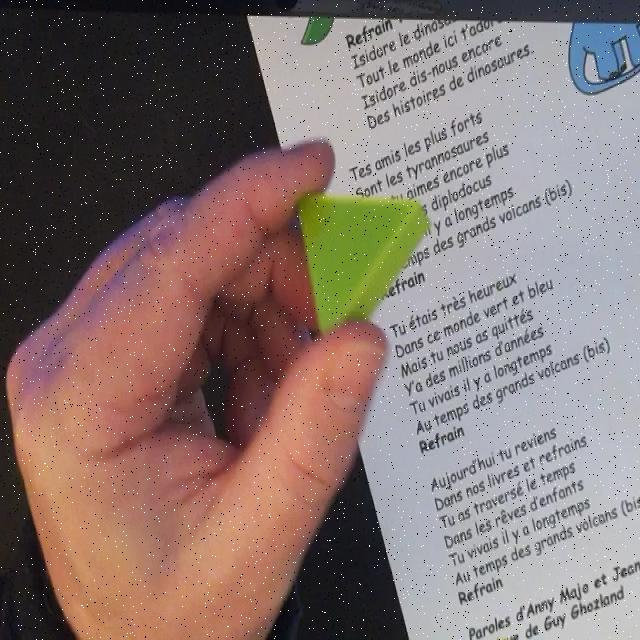triangle: (294, 189, 430, 347)
